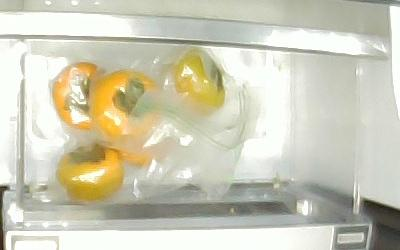persimmon_vinyl: (91, 70, 164, 141), (55, 143, 125, 201), (51, 62, 104, 132), (173, 51, 225, 117)
